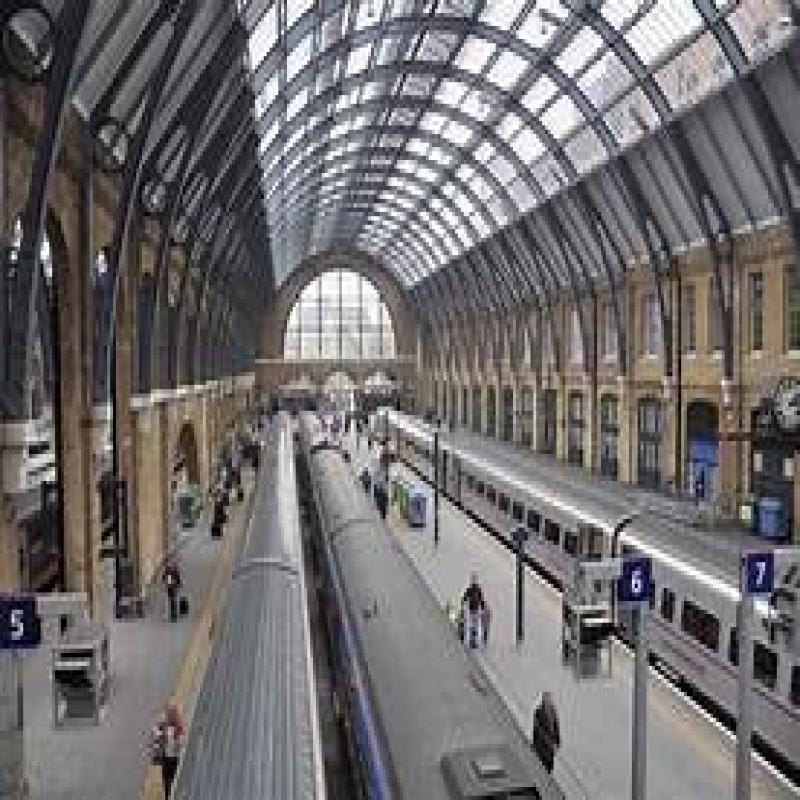train: (395, 399, 800, 714)
